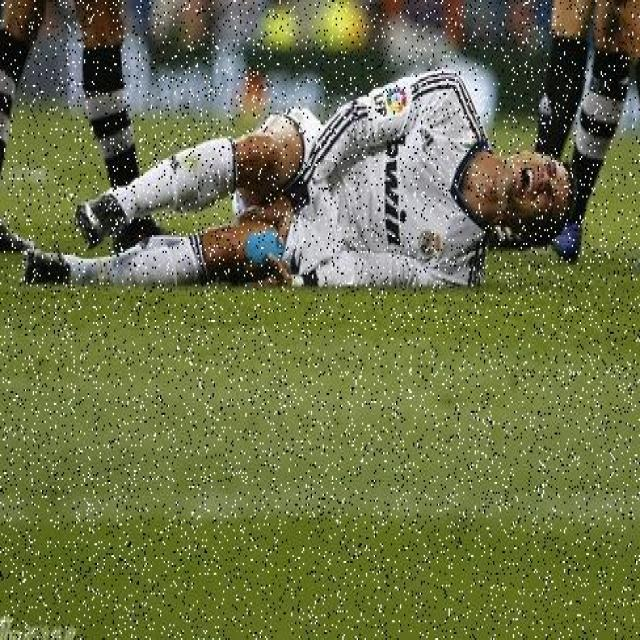fall: (66, 71, 566, 279)
